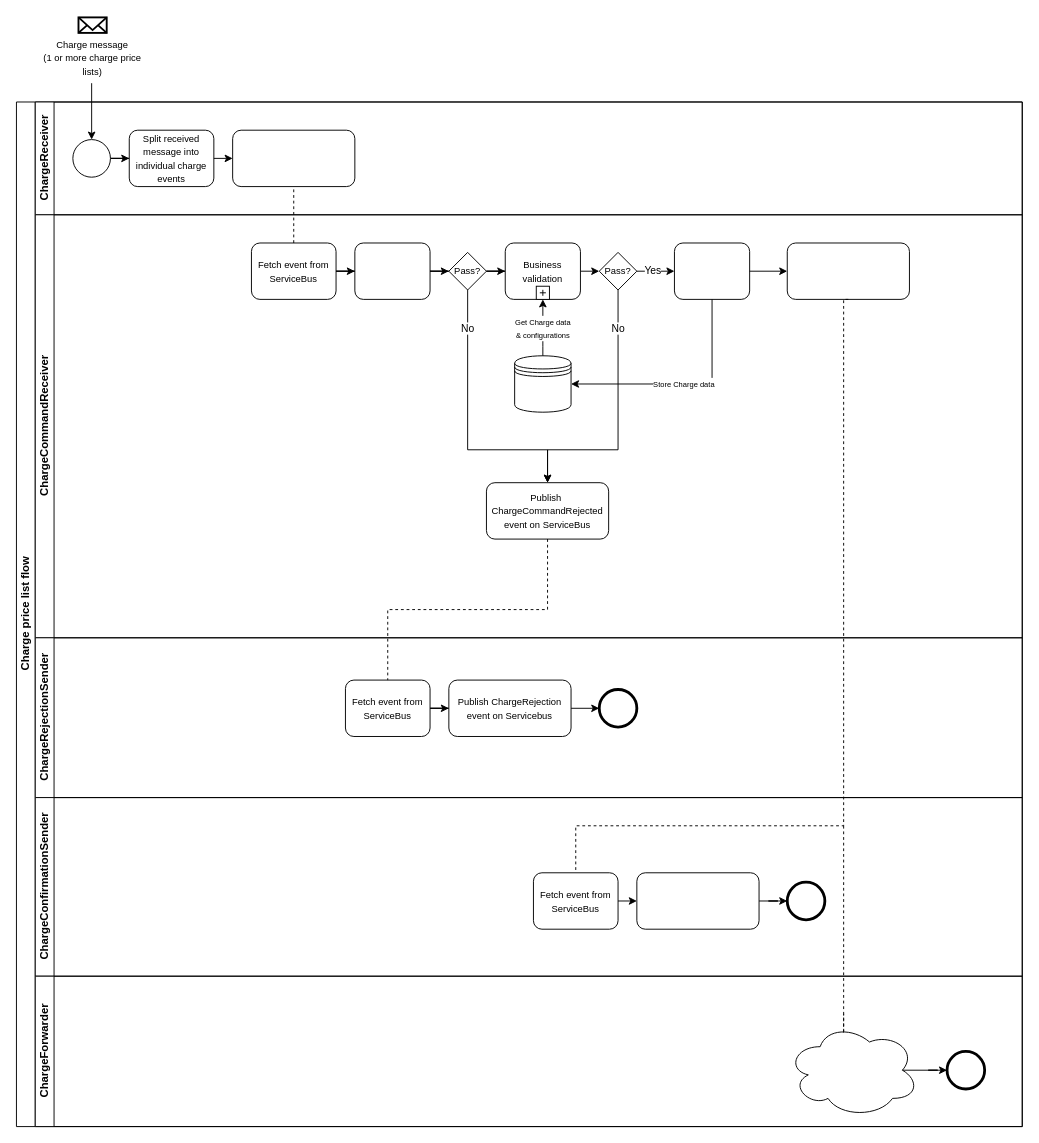
This 1039x1143 diagram has some shape labels left out. The centre of each missing label's shape, as x and y in pixels:
Input validation: point (392, 270)
Persist event data: point (712, 270)
Publish ChargeCommandAccepted event on ServiceBus: point (847, 270)
Publish ChargeCommandReceived event on Servicebus: point (293, 158)
Publish ChargeConfirmation event on Servicebus: point (697, 900)
SQL database: point (542, 383)
TODO: Forward charge to market participants flow: point (852, 1069)
